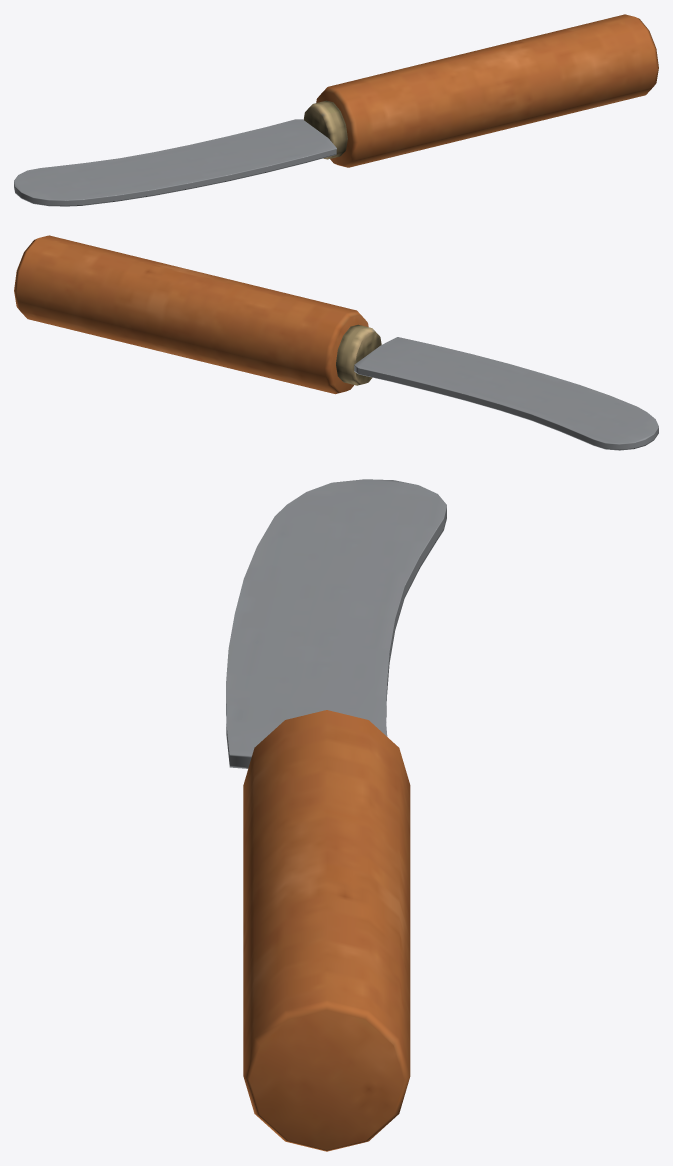
File: pi_knife01.gltf
The picture shows the model from 3 angles, top to bottom: view 1: azimuth 30°, elevation 25°; view 2: azimuth 150°, elevation 25°; view 3: azimuth 270°, elevation 25°; orthographic projection. The views are drawn at different scales.
Visible parts, largest first — view 1: pi_knife01_mesh_shape:pi_knife01_body01; view 2: pi_knife01_mesh_shape:pi_knife01_body01; view 3: pi_knife01_mesh_shape:pi_knife01_body01.
Boxes of the visible parts, bbox=[...] form: pi_knife01_mesh_shape:pi_knife01_body01: bbox=[14, 14, 658, 206]; pi_knife01_mesh_shape:pi_knife01_body01: bbox=[14, 235, 658, 450]; pi_knife01_mesh_shape:pi_knife01_body01: bbox=[226, 479, 446, 1151].
Bounding box in the file's own units: 0.1978 × 0.0235 × 0.0311.
1 material, 1 textured.
